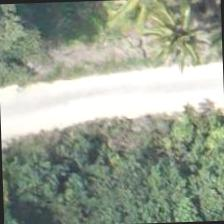Kelapa_Sawit: (129, 0, 223, 77)
